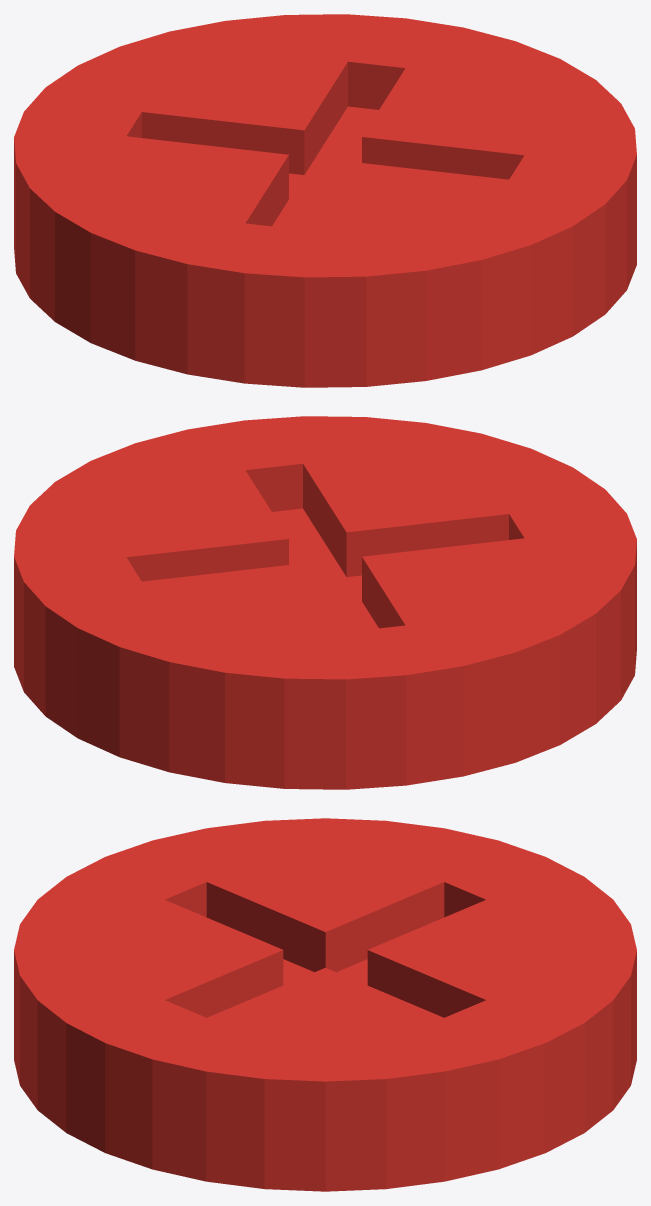
File: delete_button.gltf
3 renders of one model, top to bottom at view 1: azimuth 30°, elevation 25°; view 2: azimuth 150°, elevation 25°; view 3: azimuth 270°, elevation 25°, orthographic.
Visible parts, largest first — view 1: delete_button; view 2: delete_button; view 3: delete_button.
Part boxes in pixels (x1,y1,x2,y2): delete_button: (14,14,636,387); delete_button: (14,416,636,789); delete_button: (14,818,636,1191).
Bounding box in the file's own units: 0.3312 × 0.0646 × 0.3312.
